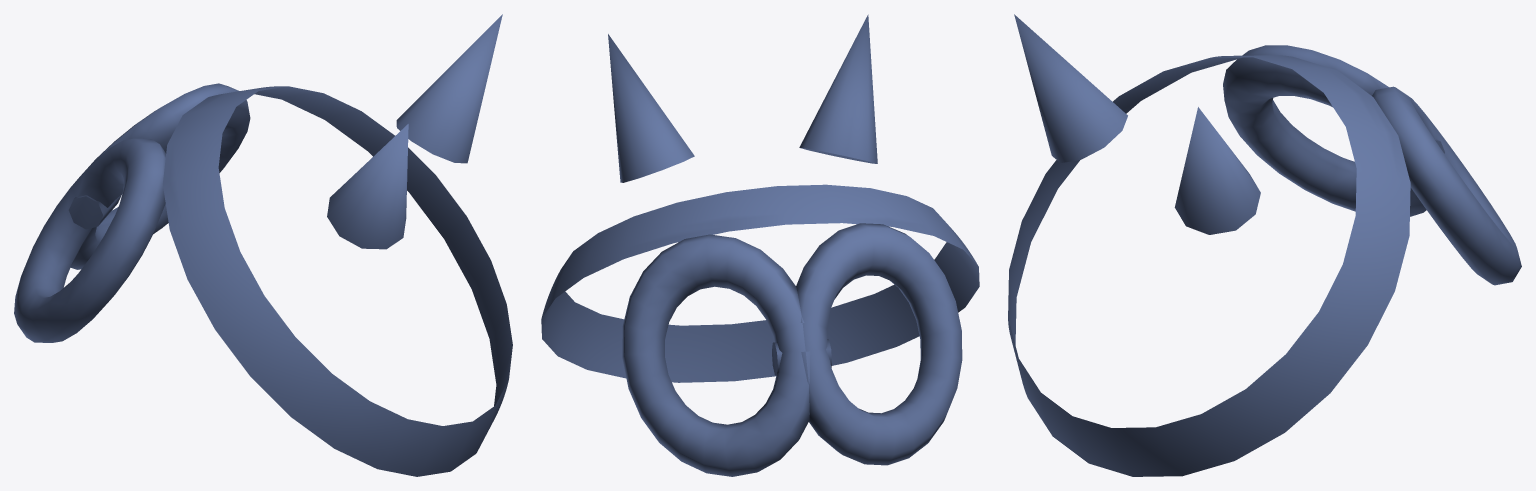
The model's file is sm_head.fbx.
3 renders of one model, left to right at view 1: azimuth 30°, elevation 25°; view 2: azimuth 150°, elevation 25°; view 3: azimuth 270°, elevation 25°, orthographic. The views are drawn at different scales.
Parts seen in each view (by area): view 1: sm_head; view 2: sm_head; view 3: sm_head.
Boxes of the visible parts, box(x1,y1,x2,y2) form: sm_head: box(14, 14, 512, 476); sm_head: box(541, 14, 979, 476); sm_head: box(1008, 14, 1521, 476).
Bounding box in the file's own units: 1.19 × 1.03 × 1.21.
